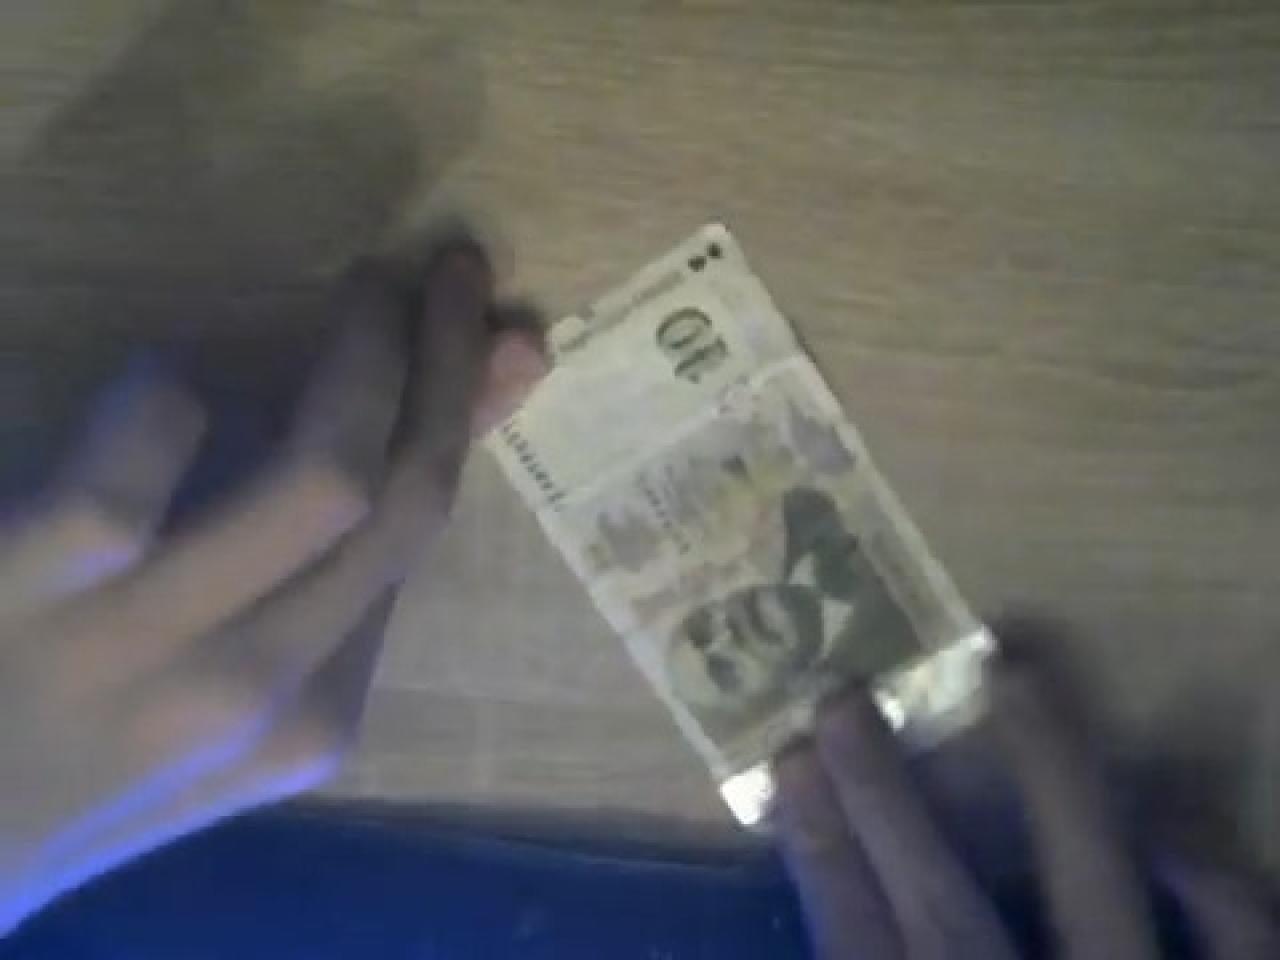10leva: (491, 219, 998, 835)
